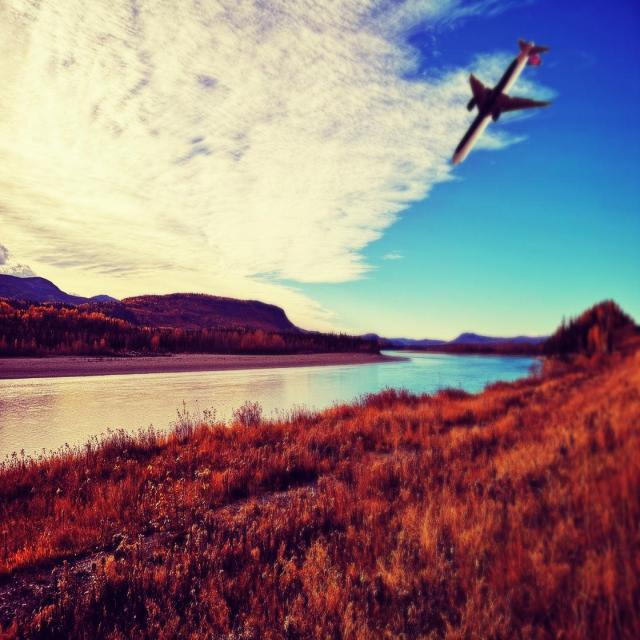airplane: (451, 37, 552, 166)
